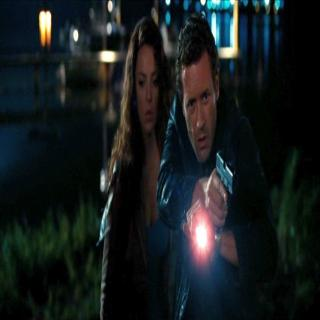gun: (206, 142, 238, 226)
